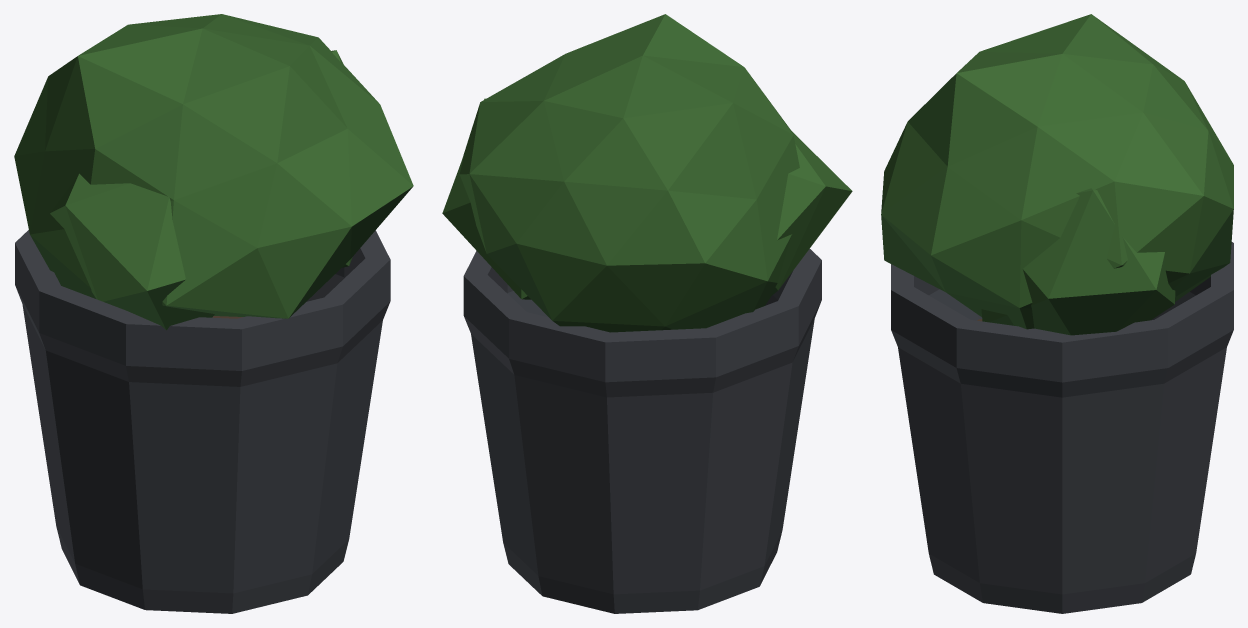
Rendered from SM_Street_Pot_RoundBlack_No3_Foliage_01.gltf.
3 renders of one model, left to right at view 1: azimuth 30°, elevation 25°; view 2: azimuth 150°, elevation 25°; view 3: azimuth 270°, elevation 25°, orthographic. The views are drawn at different scales.
Visible parts, largest first — view 1: SM_Street_Pot_RoundBlack_No3_Foliage_01; view 2: SM_Street_Pot_RoundBlack_No3_Foliage_01; view 3: SM_Street_Pot_RoundBlack_No3_Foliage_01.
Part boxes in pixels (x1=…): SM_Street_Pot_RoundBlack_No3_Foliage_01: x1=14, y1=14, x2=413, y2=613; SM_Street_Pot_RoundBlack_No3_Foliage_01: x1=442, y1=14, x2=852, y2=613; SM_Street_Pot_RoundBlack_No3_Foliage_01: x1=881, y1=14, x2=1233, y2=613.
Size of the model in its own units: 0.0949 by 0.1386 by 0.0881.
Materials: 1 (1 with a texture image).
